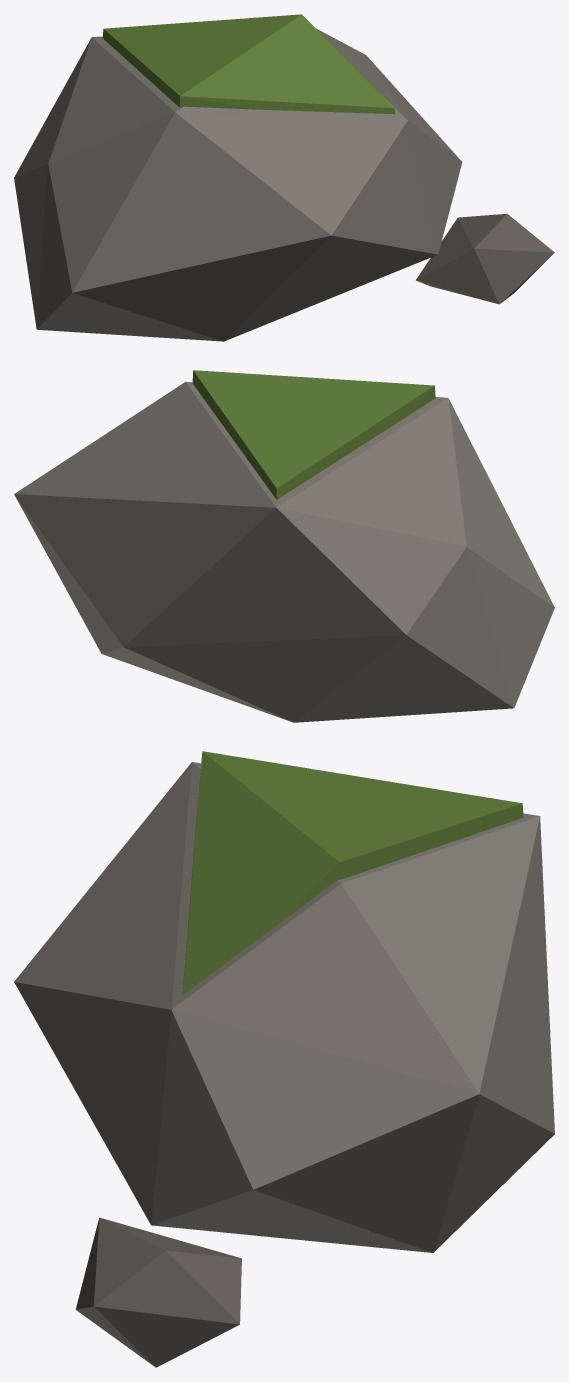
Rendered from town_rock.glb.
3 renders of one model, top to bottom at view 1: azimuth 30°, elevation 25°; view 2: azimuth 150°, elevation 25°; view 3: azimuth 270°, elevation 25°, orthographic. The views are drawn at different scales.
Parts seen in each view (by area): view 1: town_rock; view 2: town_rock; view 3: town_rock.
Boxes of the visible parts, <box> form: town_rock: <box>14,14,554,341</box>; town_rock: <box>14,370,554,722</box>; town_rock: <box>14,751,554,1367</box>.
Size of the model in its own units: 1.63 by 0.9445 by 1.17.
